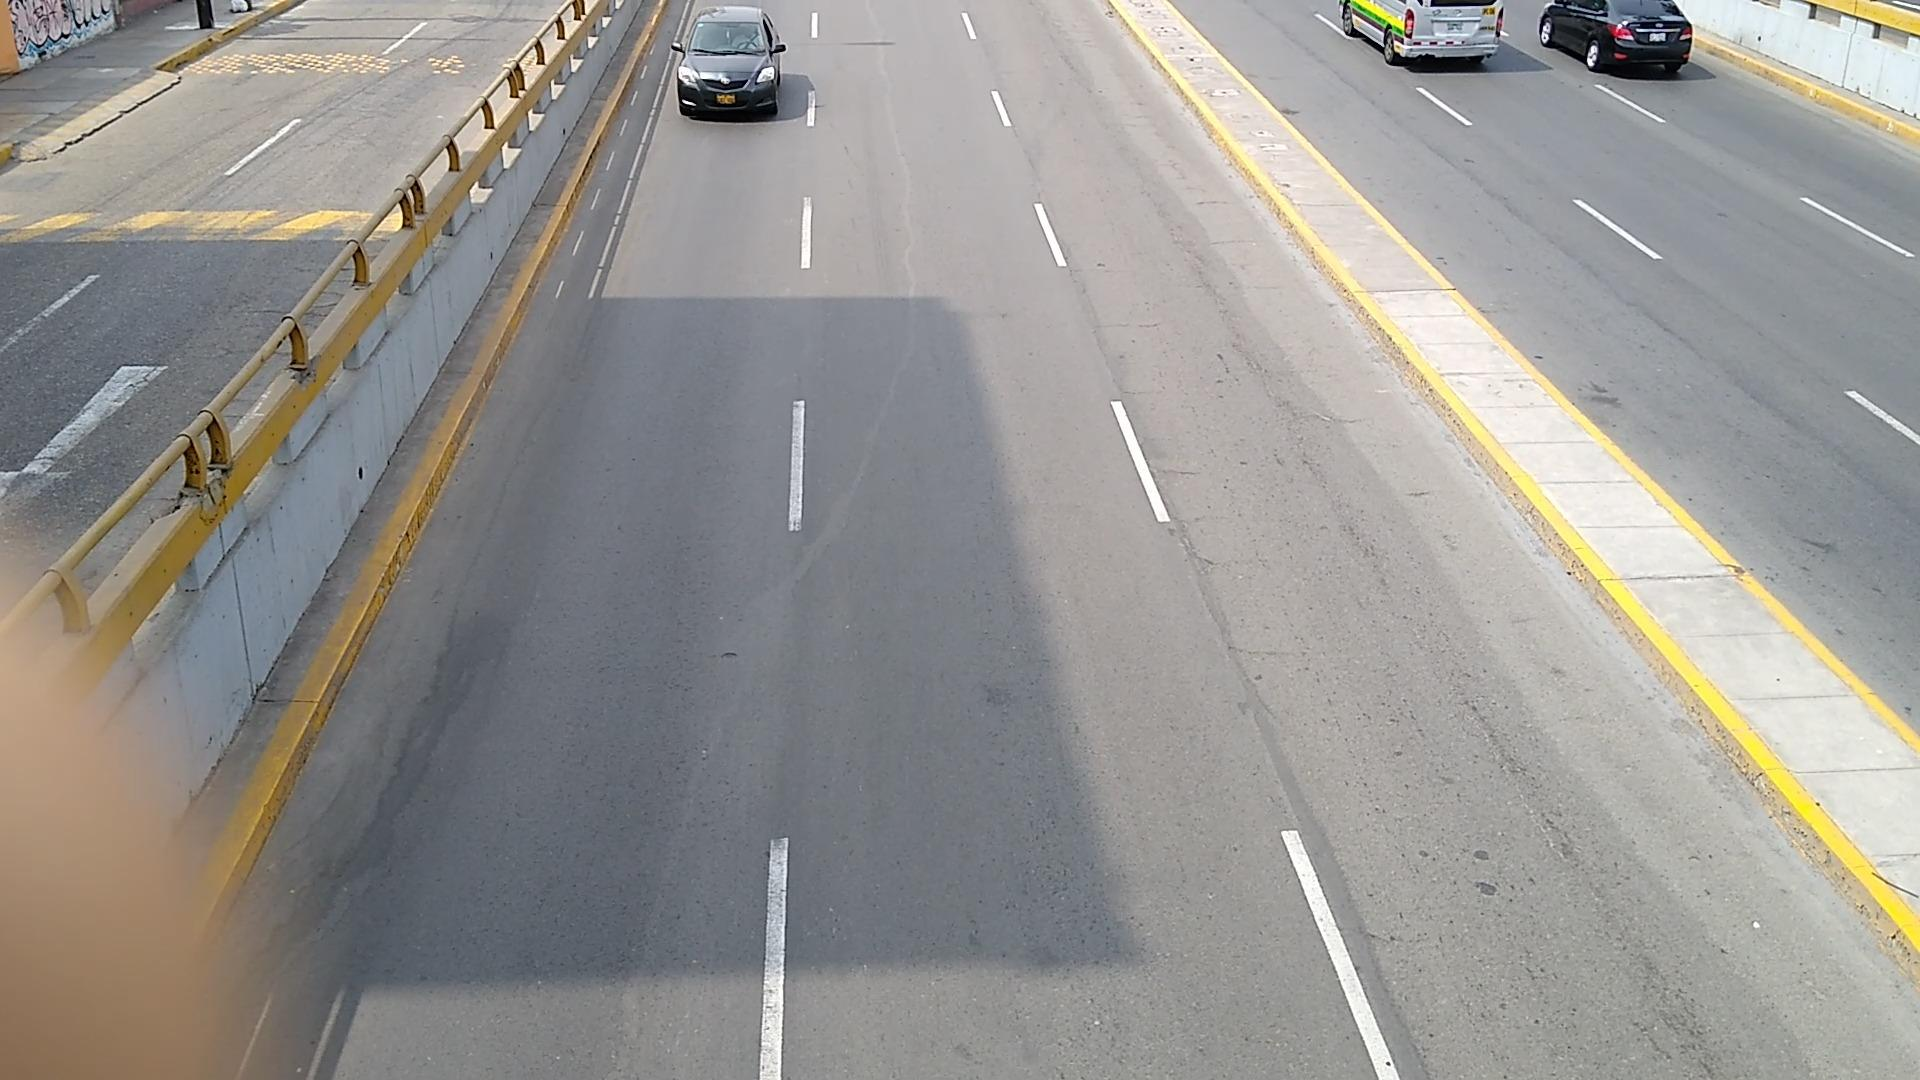car: (671, 8, 787, 116), (1542, 0, 1692, 71)
